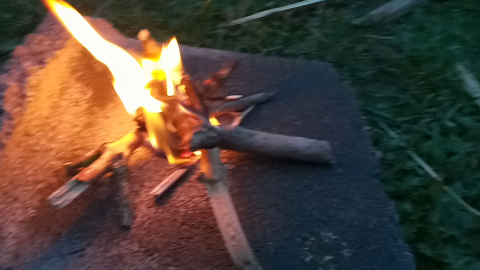fire: (43, 4, 224, 164)
